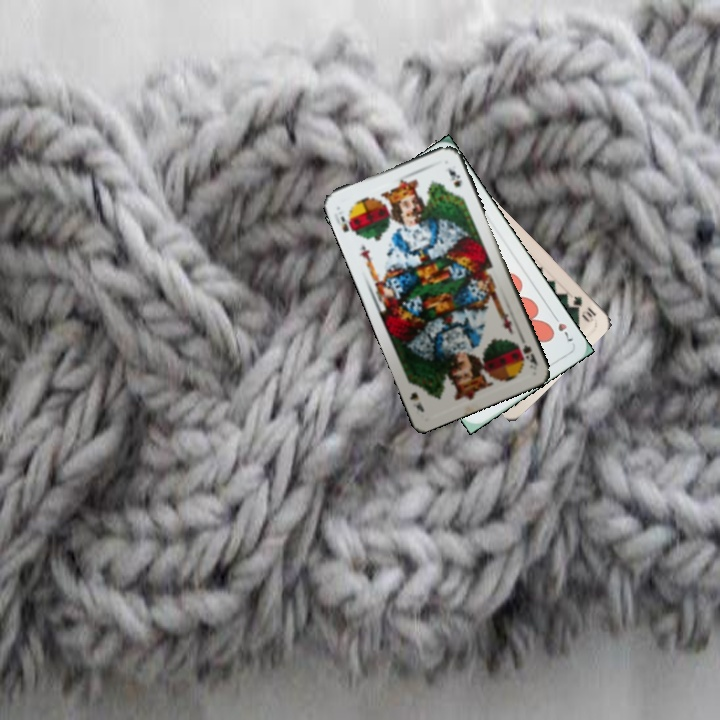G10: (568, 292, 599, 325)
H7: (548, 310, 576, 346)
SK: (513, 331, 541, 371), (336, 210, 360, 238)
